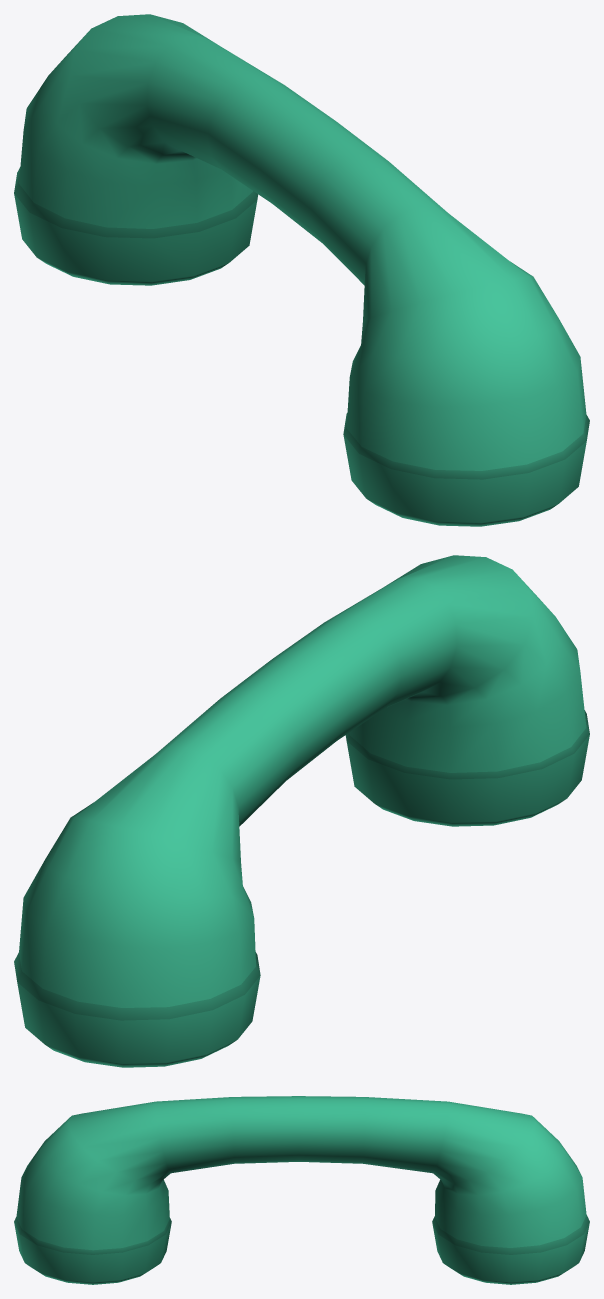
Rendered from human-electronics-telephone-handset_v1.glb.
The picture shows the model from 3 angles, top to bottom: view 1: azimuth 30°, elevation 25°; view 2: azimuth 150°, elevation 25°; view 3: azimuth 270°, elevation 25°; orthographic projection. The views are drawn at different scales.
Visible parts, largest first — view 1: Telephone Handset_v1; view 2: Telephone Handset_v1; view 3: Telephone Handset_v1.
Boxes of the visible parts, x1,y1,x2,y2 form: Telephone Handset_v1: [14, 14, 589, 526]; Telephone Handset_v1: [14, 555, 589, 1067]; Telephone Handset_v1: [14, 1096, 589, 1284].
Size of the model in its own units: 0.0603 by 0.067 by 0.22.
